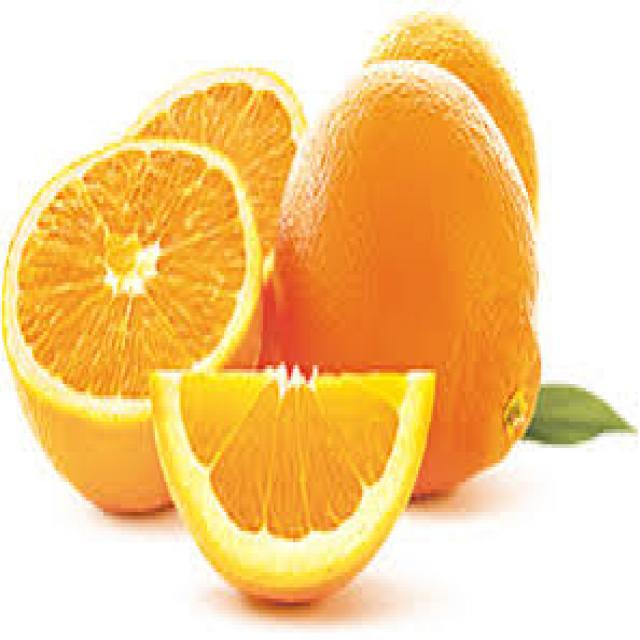Orange: (283, 56, 535, 369), (149, 356, 436, 606), (2, 138, 248, 388)
